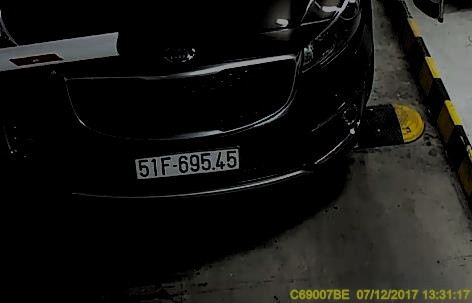plate: (131, 148, 247, 179)
